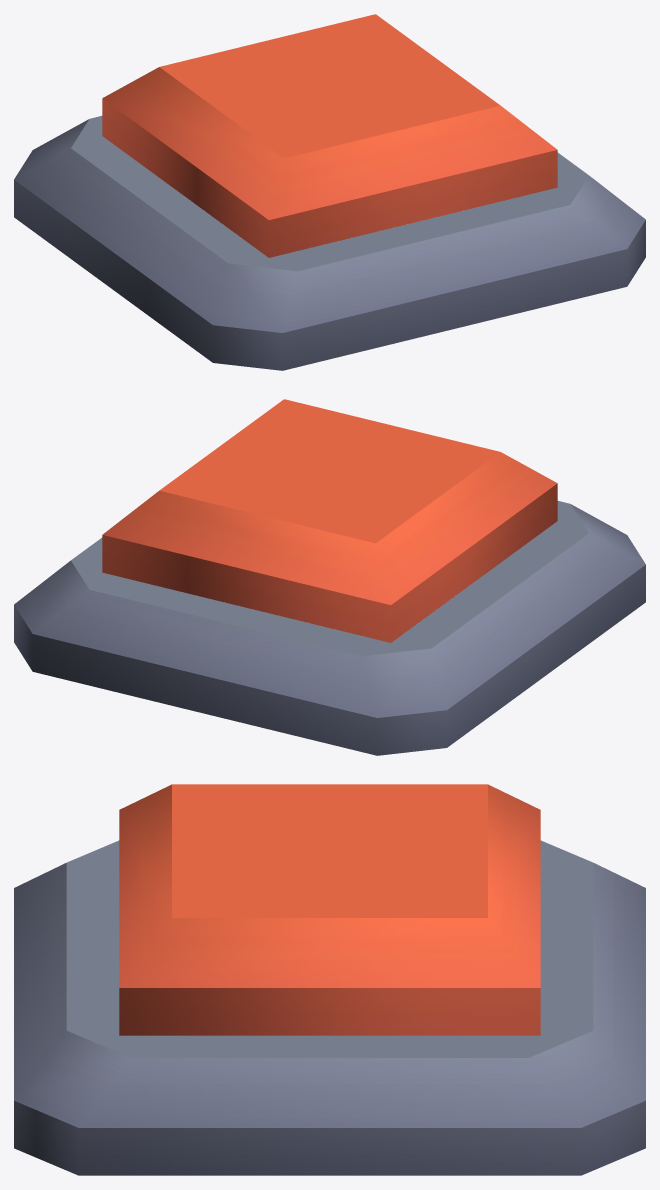
File: kenney-platformer-button-square.glb
The picture shows the model from 3 angles, top to bottom: view 1: azimuth 30°, elevation 25°; view 2: azimuth 150°, elevation 25°; view 3: azimuth 270°, elevation 25°; orthographic projection. The views are drawn at different scales.
Visible parts, largest first — view 1: button-square, button; view 2: button-square, button; view 3: button-square, button.
Boxes of the visible parts, left/top/right/bottom form: button-square: left=14, top=116, right=645, bottom=370; button: left=102, top=14, right=557, bottom=257; button-square: left=14, top=501, right=645, bottom=755; button: left=102, top=399, right=557, bottom=642; button-square: left=14, top=840, right=645, bottom=1175; button: left=119, top=784, right=540, bottom=1035.
Bounding box in the file's own units: 0.6 × 0.2 × 0.6.
Materials: 1 (1 with a texture image).
